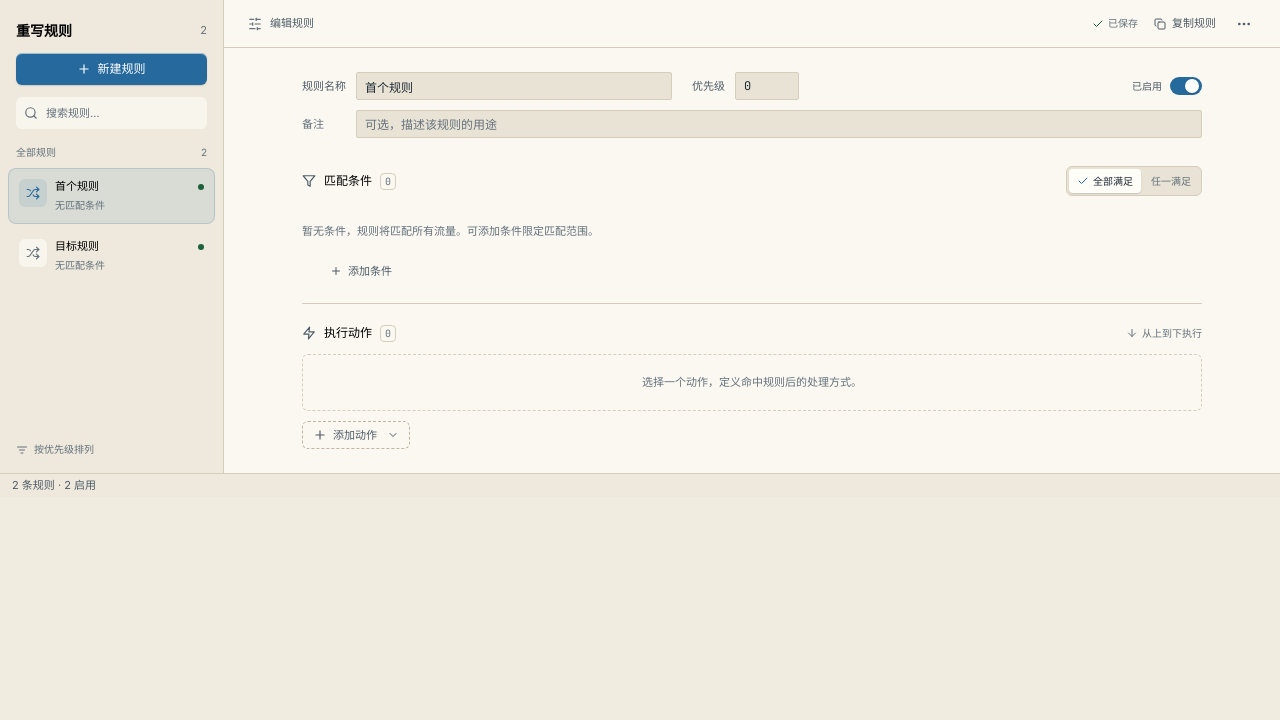
Test: 定位后删除规则会取消防抖保存，并提示规则不存在
Replace the text in the field showing "首个规则" with "已编辑规则" at (514, 86), box [356,72,672,100]
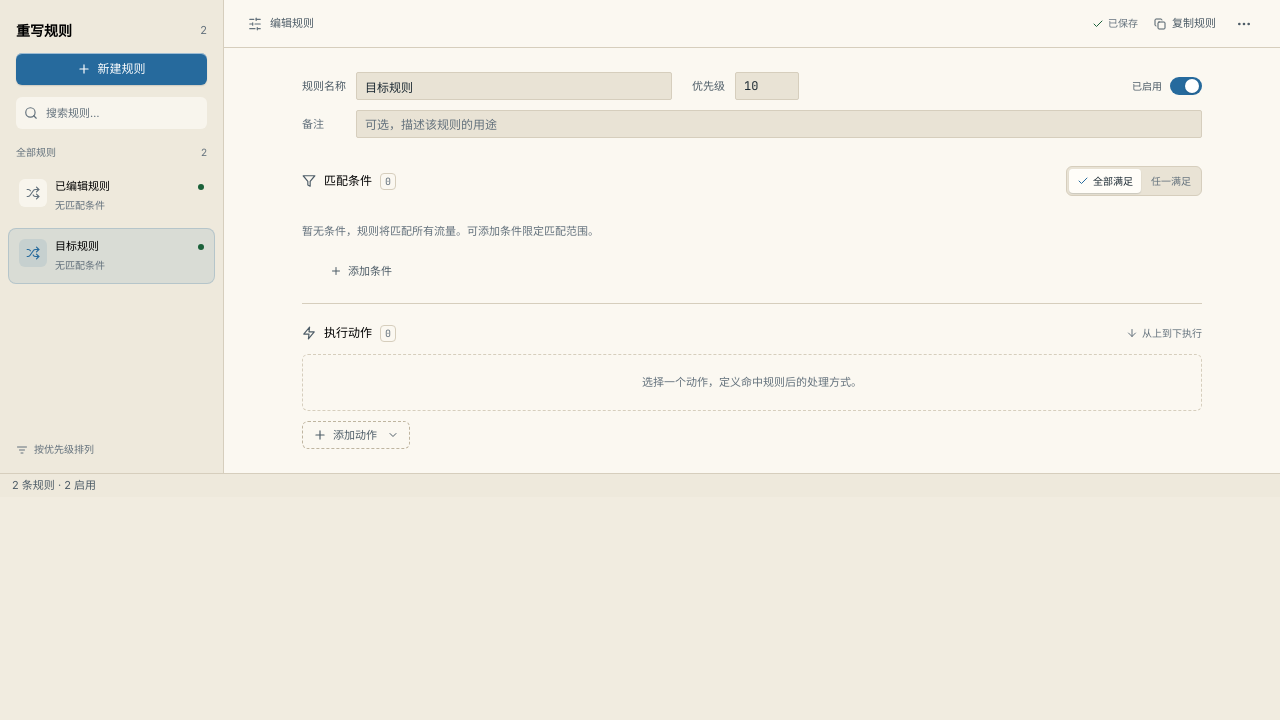
Click the text "已编辑规则".
click(82, 186)  # box [55,179,110,194]
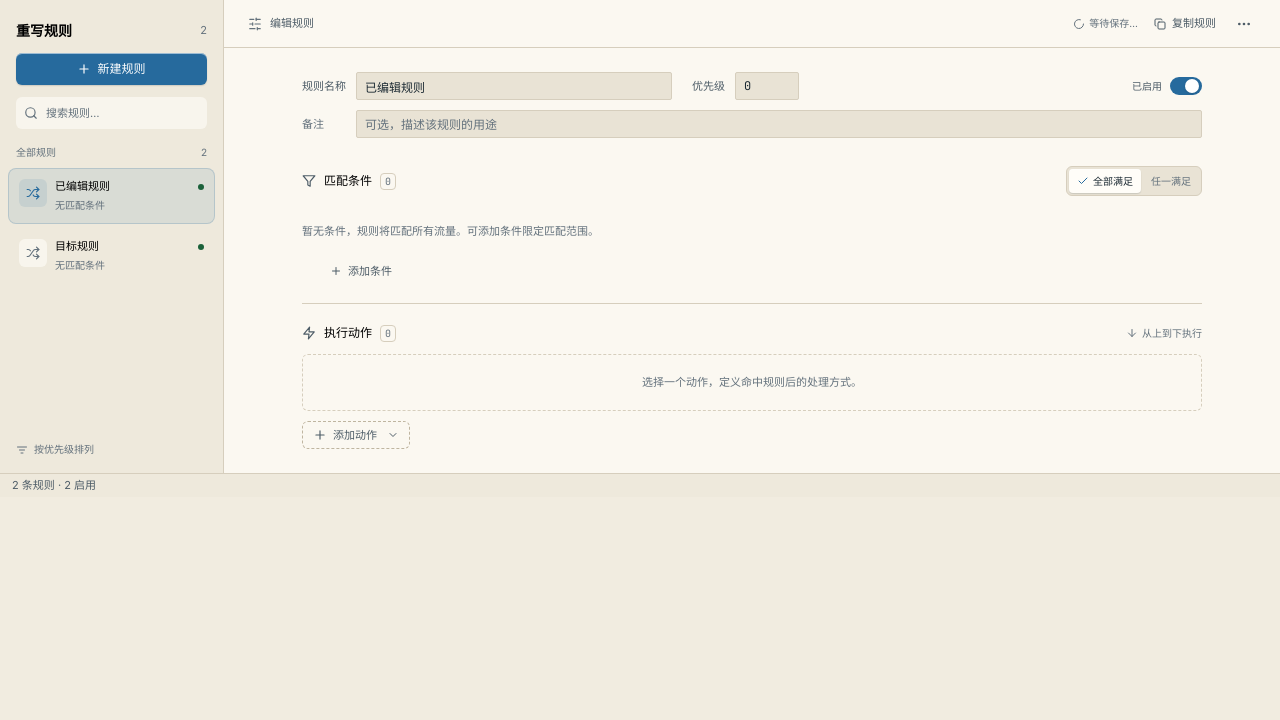
Click the button named "更多规则操作".
click(1244, 24)  # box [1232,12,1256,36]
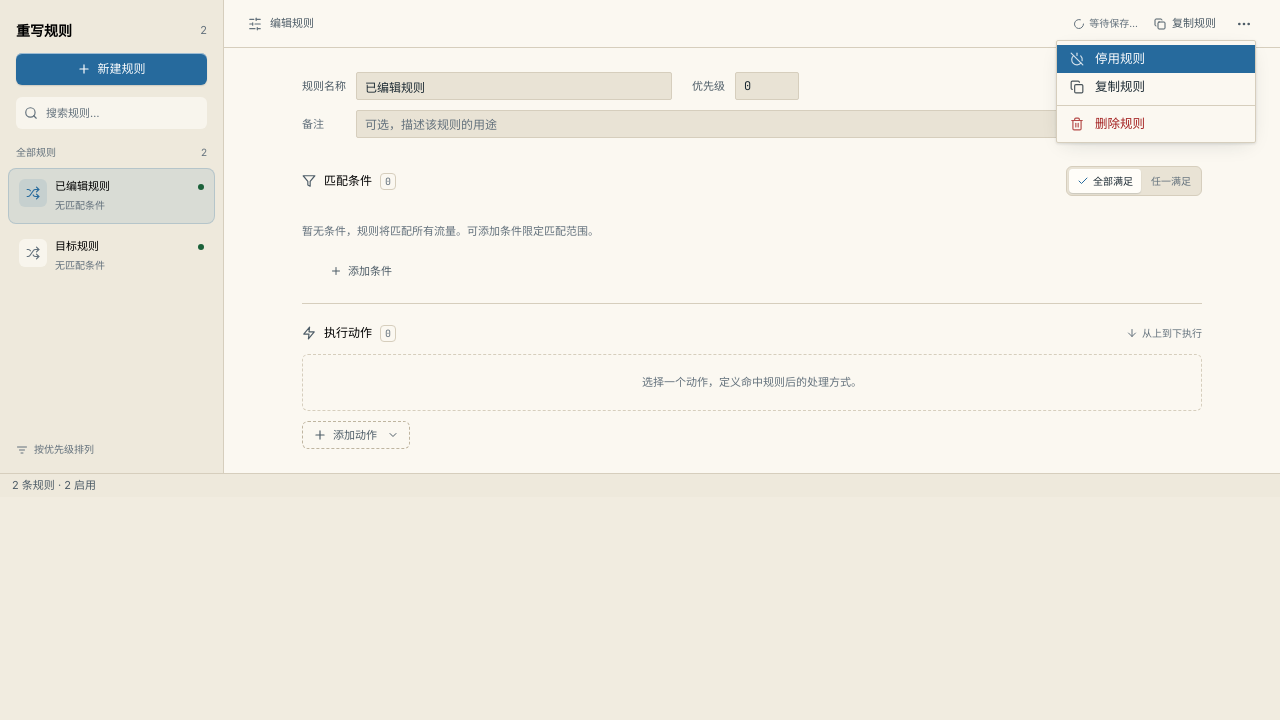
Click the menu item "删除规则".
click(1156, 124)  # box [1057,110,1255,138]
Wait 1000 ms
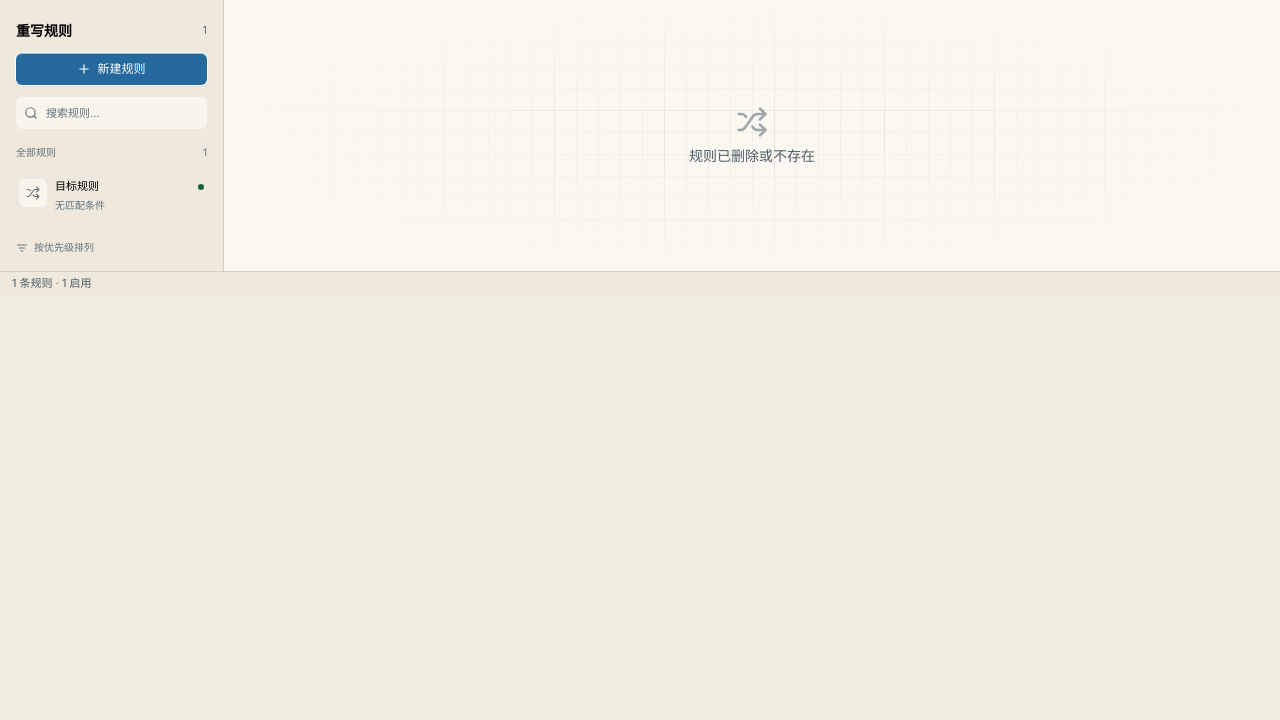
expect the button "首个规则" is not shown: met
expect the button "已编辑规则" is gone: met
expect the text "规则已删除或不存在" is shown: met, box [689,146,815,166]
